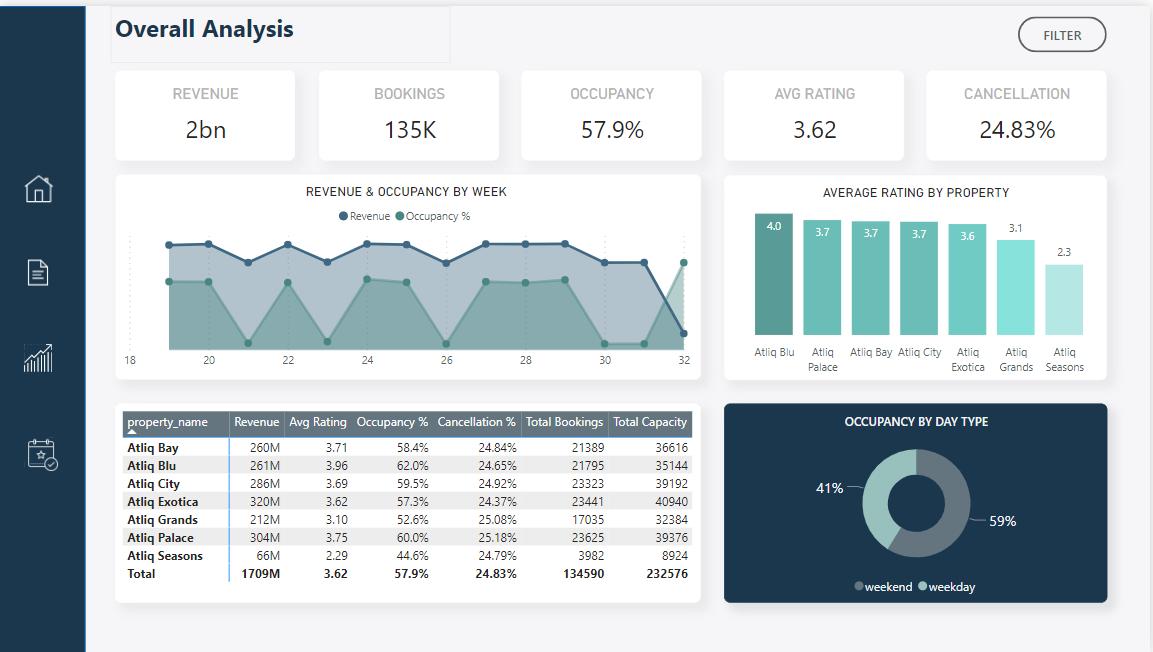

The dashboard page shown, as its layout file describes it:
{"tool":"powerbi","page":{"name":"Overall Analysis","canvas":[1280,720],"ordinal":1},"visuals":[{"type":"donutChart","title":"OCCUPANCY BY DAY TYPE","fields":{"Category":["dim_date.day_type"],"Y":["Measures Table.Occupancy %"]},"box":[807,442.5,425.5,210.2],"z":0},{"type":"shape","title":"Menu Background","box":[0,0,97.2,720.6],"z":1000},{"type":"card","title":"REVENUE","fields":{"Values":["Measures Table.Revenue"]},"box":[130.5,71.2,200,100],"z":2000},{"type":"actionButton","box":[24.9,182.5,100,40.7],"z":3000},{"type":"actionButton","box":[24.9,277.5,50.9,39],"z":4000},{"type":"card","title":"BOOKINGS","fields":{"Values":["Measures Table.Total Bookings"]},"box":[356,71.2,200,100],"z":5000},{"type":"card","title":"AVG RATING","fields":{"Values":["Measures Table.Average Rating"]},"box":[807,71.2,200.1,100],"z":6000},{"type":"card","title":"OCCUPANCY","fields":{"Values":["Measures Table.Occupancy %"]},"box":[581.5,71.2,200.1,100],"z":7000},{"type":"textbox","box":[125.7,0,377,63.6],"z":8000},{"type":"card","title":"CANCELLATION","fields":{"Values":["Measures Table.Cancellation %"]},"box":[1032.5,71.2,200.1,100],"z":9000},{"type":"pivotTable","fields":{"Rows":["dim_hotels.property_name"],"Values":["Measures Table.Revenue","Measures Table.Average Rating","Measures Table.Occupancy %","Measures Table.Cancellation %","Measures Table.Total Bookings","Measures Table.Total Capacity"]},"box":[130.5,442.5,651,210.2],"z":10000},{"type":"actionButton","title":"Filter Button","box":[1132.5,11.1,98.6,39.8],"z":11000},{"type":"actionButton","box":[24.9,372.4,50.9,39],"z":12000},{"type":"actionButton","box":[24.9,475.8,50.9,45.8],"z":14000},{"type":"areaChart","title":"REVENUE & OCCUPANCY BY WEEK","fields":{"Category":["dim_date.week no"],"Y":["Measures Table.Revenue"],"Y2":["Measures Table.Occupancy %"]},"box":[130.5,186.5,651,228.9],"z":15000},{"type":"columnChart","title":"AVERAGE RATING BY PROPERTY","fields":{"Category":["dim_hotels.property_name"],"Y":["Measures Table.Avg Rating"]},"box":[807,188.2,425.5,227.2],"z":16000}]}

Visuals, with their boxes on the page's 1280x720 design canvas (x1, y1, x2, y2). These are canvas units, not pixel positions in the 1153x652 screenshot, which may show the page scaled, cropped or inside an application window:
"OCCUPANCY BY DAY TYPE" donutChart: (left=807, top=442, right=1232, bottom=653)
"Menu Background" shape: (left=0, top=0, right=97, bottom=721)
"REVENUE" card: (left=130, top=71, right=330, bottom=171)
actionButton: (left=25, top=182, right=125, bottom=223)
actionButton: (left=25, top=278, right=76, bottom=316)
"BOOKINGS" card: (left=356, top=71, right=556, bottom=171)
"AVG RATING" card: (left=807, top=71, right=1007, bottom=171)
"OCCUPANCY" card: (left=582, top=71, right=782, bottom=171)
textbox: (left=126, top=0, right=503, bottom=64)
"CANCELLATION" card: (left=1032, top=71, right=1233, bottom=171)
pivotTable - dim_hotels.property_name x Measures Table.Revenue: (left=130, top=442, right=782, bottom=653)
"Filter Button" actionButton: (left=1132, top=11, right=1231, bottom=51)
actionButton: (left=25, top=372, right=76, bottom=411)
actionButton: (left=25, top=476, right=76, bottom=522)
"REVENUE & OCCUPANCY BY WEEK" areaChart: (left=130, top=186, right=782, bottom=415)
"AVERAGE RATING BY PROPERTY" columnChart: (left=807, top=188, right=1232, bottom=415)
